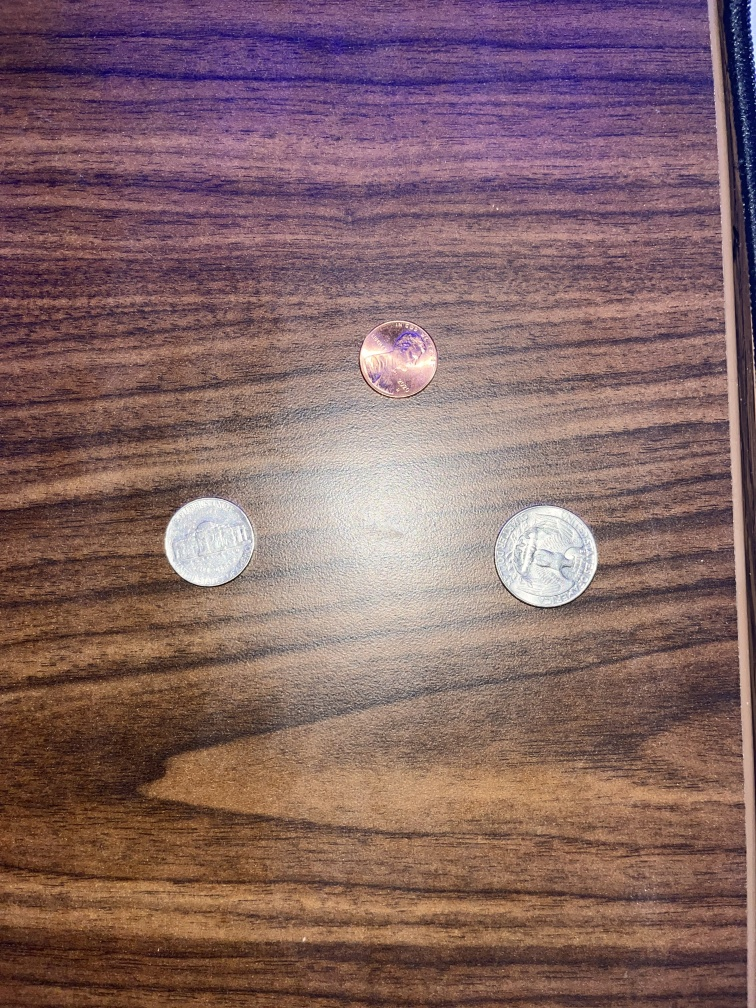nickel: (159, 492, 263, 598)
penny: (353, 316, 442, 406)
quarter: (485, 501, 602, 613)
